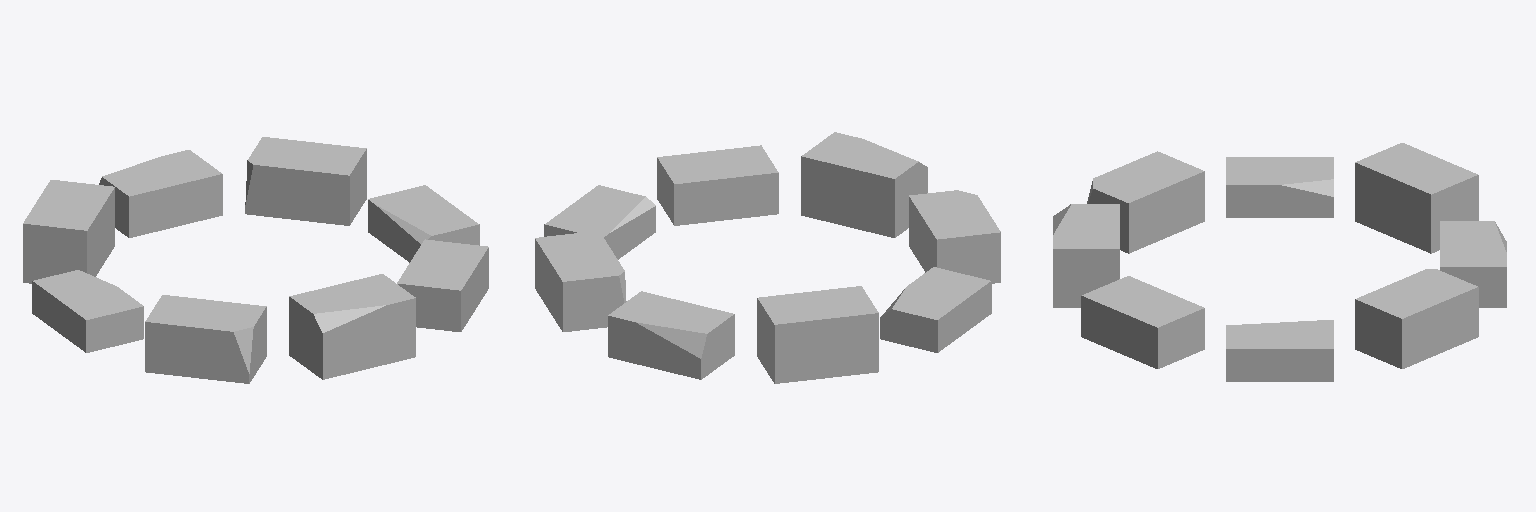
File: campfireStones_blocks.obj
3 views of the same model, side by side, from view 1: azimuth 30°, elevation 25°; view 2: azimuth 150°, elevation 25°; view 3: azimuth 270°, elevation 25° (orthographic).
Parts seen in each view (by area): view 1: campfireStones_blocks; view 2: campfireStones_blocks; view 3: campfireStones_blocks.
Part boxes in pixels (x1,y1,x2,y2): campfireStones_blocks: (23, 137, 488, 383); campfireStones_blocks: (535, 132, 1000, 383); campfireStones_blocks: (1053, 143, 1506, 381).
Size of the model in its own units: 4.69 by 0.676 by 4.69.